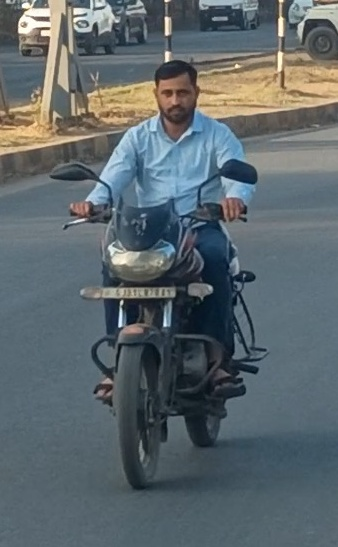BikeWithRider: (42, 49, 290, 508)
NoHelmet: (146, 55, 206, 127)
